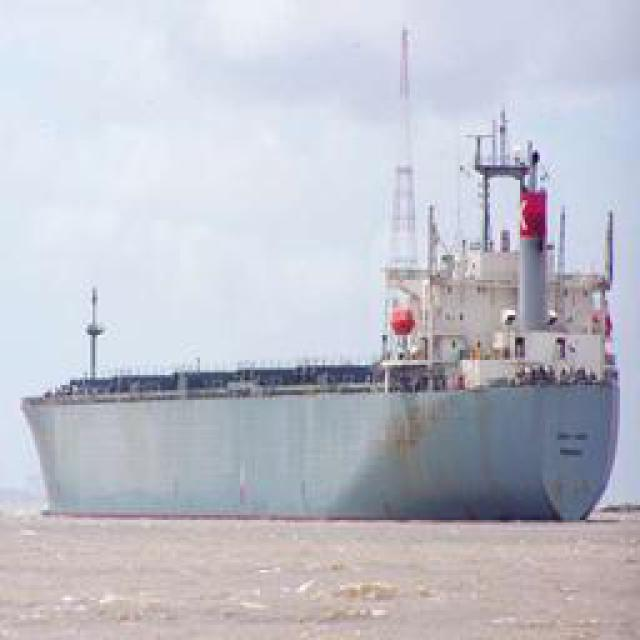Ship: (15, 75, 640, 536)
